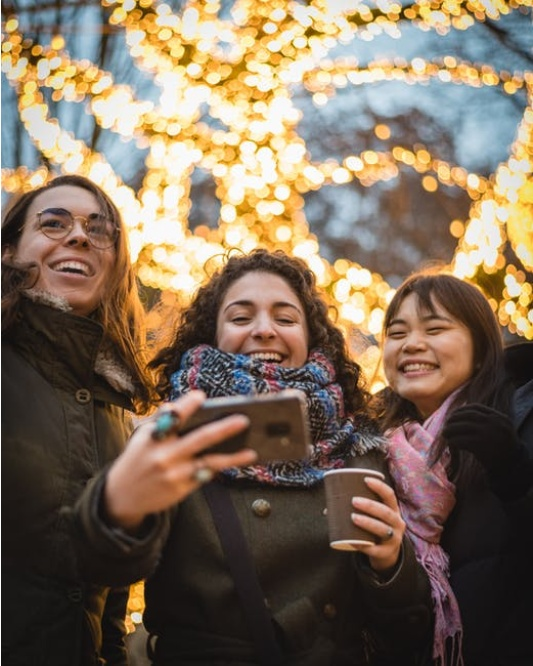face: (25, 185, 115, 308), (218, 271, 309, 373), (385, 295, 459, 395)
